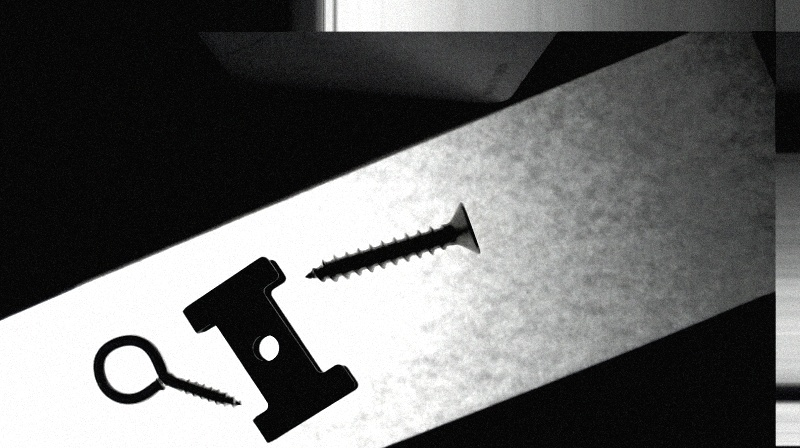O001: (91, 332, 243, 410)
O002: (181, 257, 362, 443)
S001: (303, 202, 480, 283)
